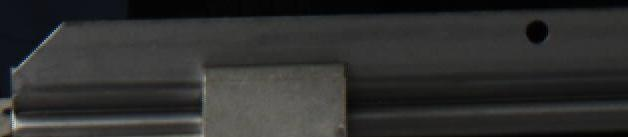cut: (8, 12, 170, 137)
holes: (523, 18, 550, 44)
